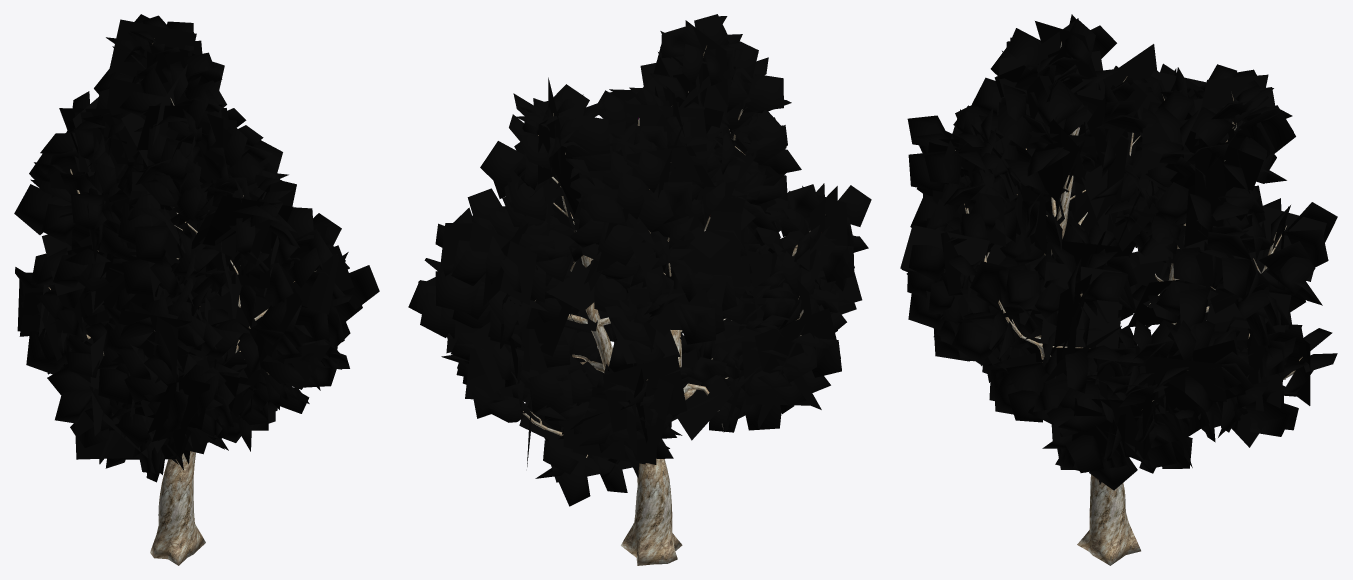
File: plane-a-summer.fbx
3 views of the same model, side by side, from view 1: azimuth 30°, elevation 25°; view 2: azimuth 150°, elevation 25°; view 3: azimuth 270°, elevation 25° (orthographic). The views are drawn at different scales.
Parts seen in each view (by area): view 1: PlaneUK_a.001; view 2: PlaneUK_a.001; view 3: PlaneUK_a.001.
Boxes of the visible parts, x1=… form: PlaneUK_a.001: x1=14, y1=14, x2=379, y2=565; PlaneUK_a.001: x1=408, y1=14, x2=871, y2=565; PlaneUK_a.001: x1=900, y1=14, x2=1337, y2=565.
Size of the model in its own units: 857 by 1200 by 913.
